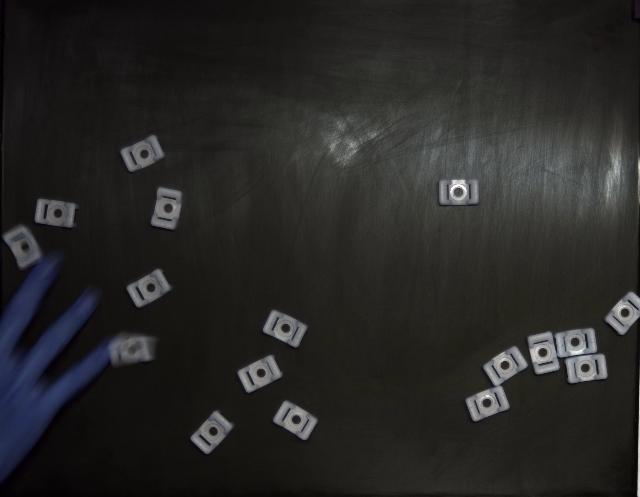first_side: (190, 411, 234, 455), (482, 346, 528, 386), (126, 269, 172, 308), (274, 401, 318, 441), (262, 310, 308, 348), (121, 135, 165, 172), (238, 355, 282, 392), (465, 386, 510, 422), (604, 292, 640, 335), (528, 332, 560, 375), (35, 199, 79, 229), (151, 188, 182, 230), (565, 354, 608, 384), (555, 329, 598, 358), (439, 179, 479, 206)
